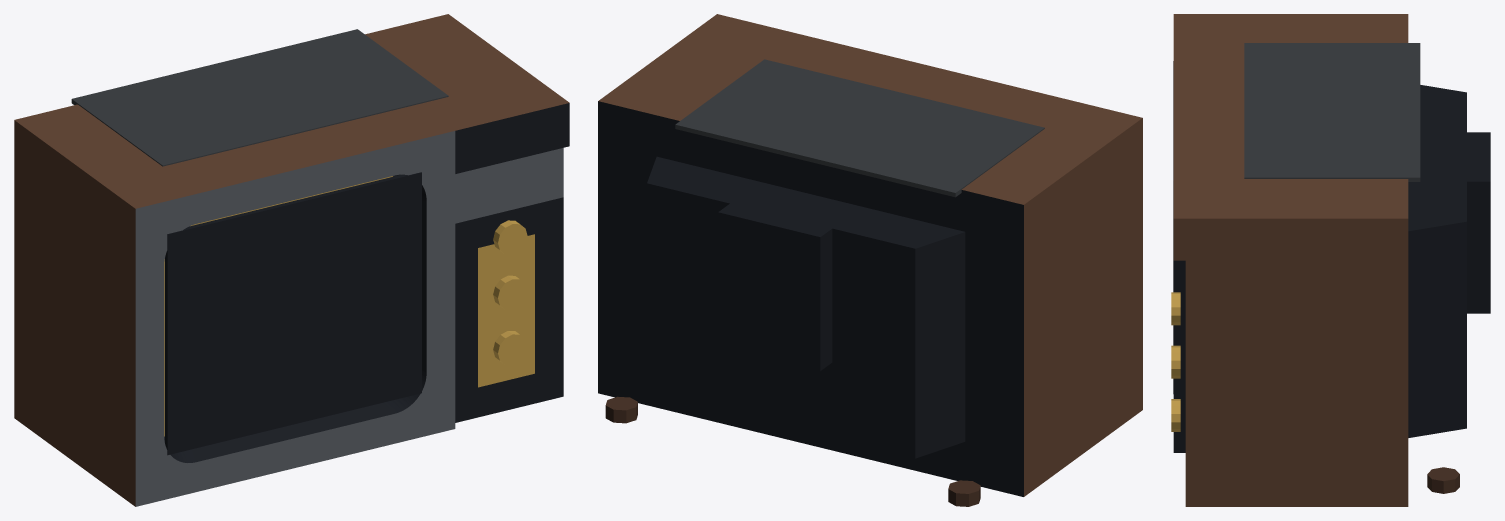
The model's file is televisionVintage.glb.
3 renders of one model, left to right at view 1: azimuth 30°, elevation 25°; view 2: azimuth 150°, elevation 25°; view 3: azimuth 270°, elevation 25°, orthographic. The views are drawn at different scales.
Visible parts, largest first — view 1: televisionVintage(Clone); view 2: televisionVintage(Clone); view 3: televisionVintage(Clone).
Boxes of the visible parts, x1,y1,x2,y2 form: televisionVintage(Clone): (14,14,569,506); televisionVintage(Clone): (598,14,1142,506); televisionVintage(Clone): (1171,14,1490,506).
Size of the model in its own units: 0.41 by 0.27 by 0.27.
